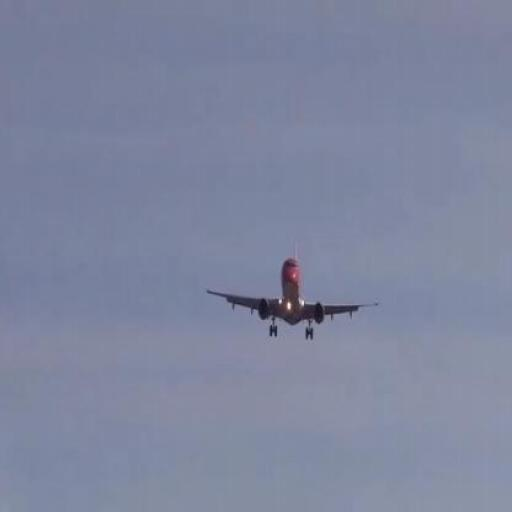aircraft: (206, 257, 380, 340)
